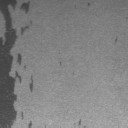red iron: (0, 0, 32, 128), (30, 75, 34, 92), (114, 35, 118, 43), (78, 118, 82, 126), (28, 121, 32, 128), (87, 2, 91, 7), (59, 61, 62, 66)
